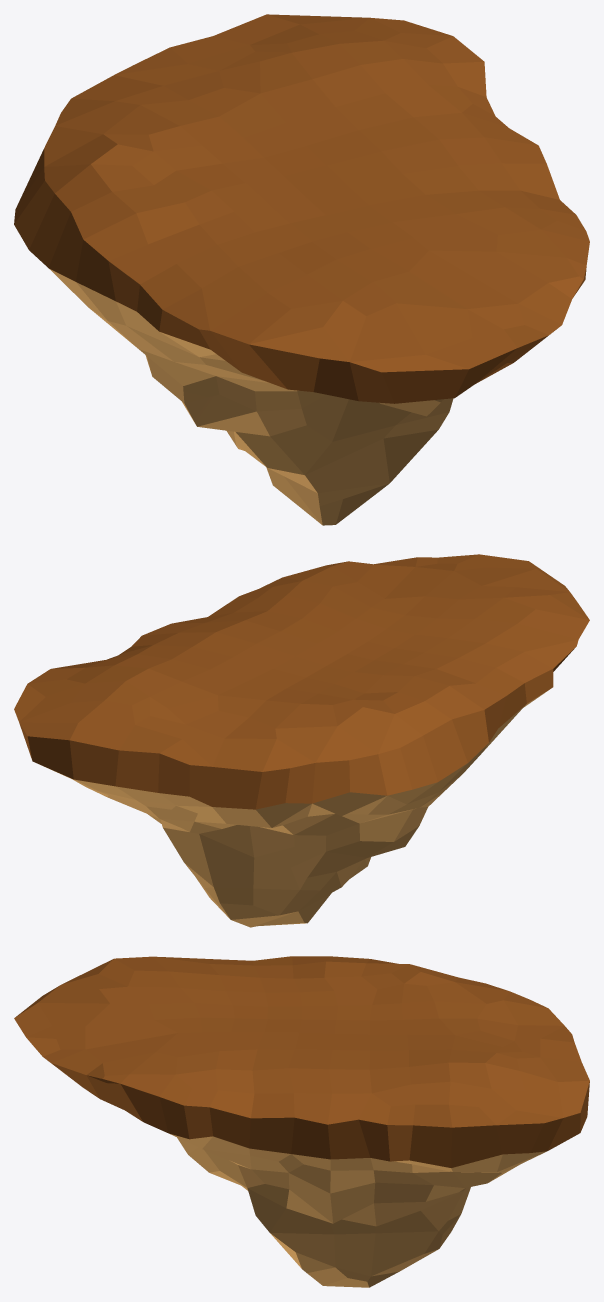
The model's file is DesertIslandV2.fbx.
The picture shows the model from 3 angles, top to bottom: view 1: azimuth 30°, elevation 25°; view 2: azimuth 150°, elevation 25°; view 3: azimuth 270°, elevation 25°; orthographic projection. The views are drawn at different scales.
Visible parts, largest first — view 1: DesertIslandMeshV2; view 2: DesertIslandMeshV2; view 3: DesertIslandMeshV2.
Part boxes in pixels (<box>): DesertIslandMeshV2: <box>14,14,589,525</box>; DesertIslandMeshV2: <box>14,554,589,927</box>; DesertIslandMeshV2: <box>14,956,589,1287</box>.
Size of the model in its own units: 1591 by 1138 by 2252.
